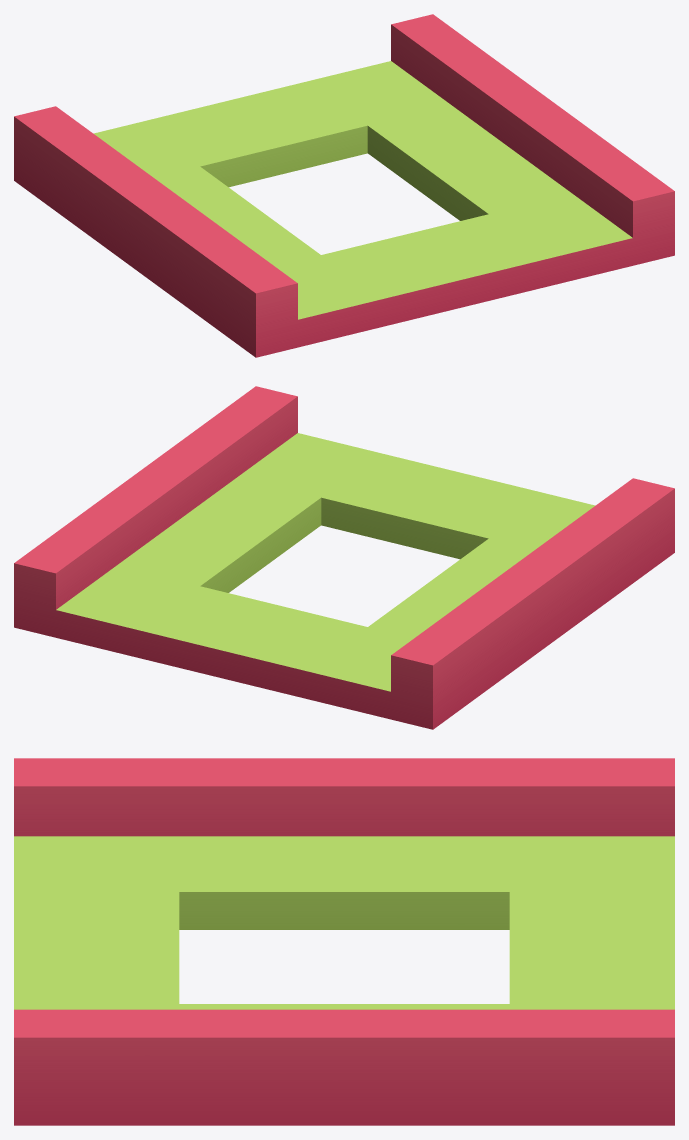
The model's file is gap.gltf.
3 views of the same model, one above another, from view 1: azimuth 30°, elevation 25°; view 2: azimuth 150°, elevation 25°; view 3: azimuth 270°, elevation 25° (orthographic). The views are drawn at different scales.
Visible parts, largest first — view 1: gap; view 2: gap; view 3: gap.
Boxes of the visible parts, left/top/right/bottom form: gap: left=14, top=14, right=674, bottom=357; gap: left=14, top=386, right=674, bottom=729; gap: left=14, top=758, right=674, bottom=1125.
Bounding box in the file's own units: 0.9999 × 0.1467 × 0.9999.
Materials: 1 (1 with a texture image).
